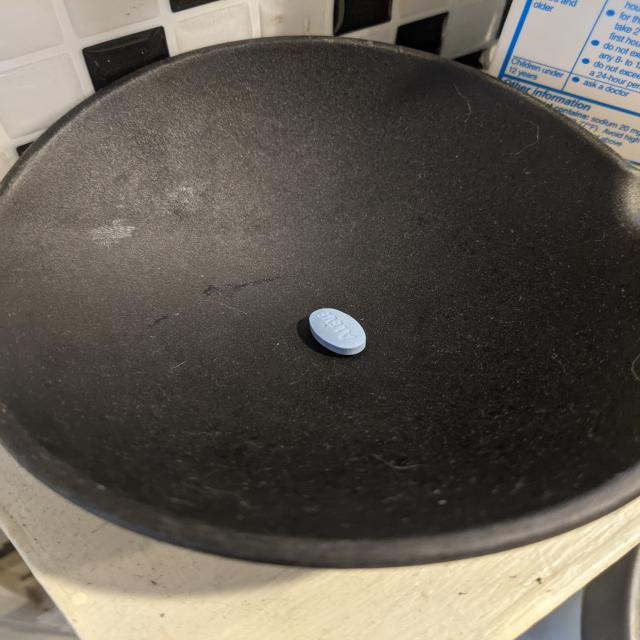non-organic waste: (308, 307, 367, 356)
